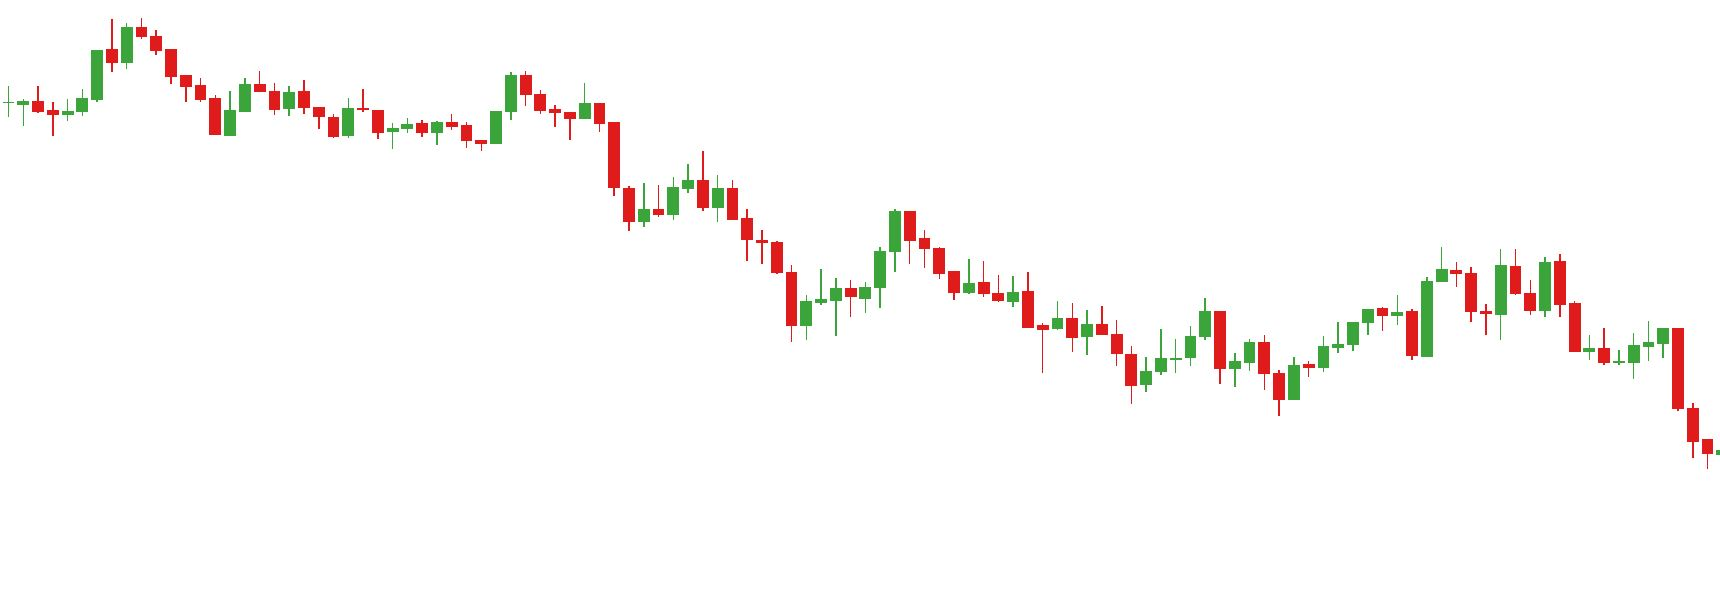buy: (1123, 335, 1303, 418)
sell: (357, 68, 533, 135)
